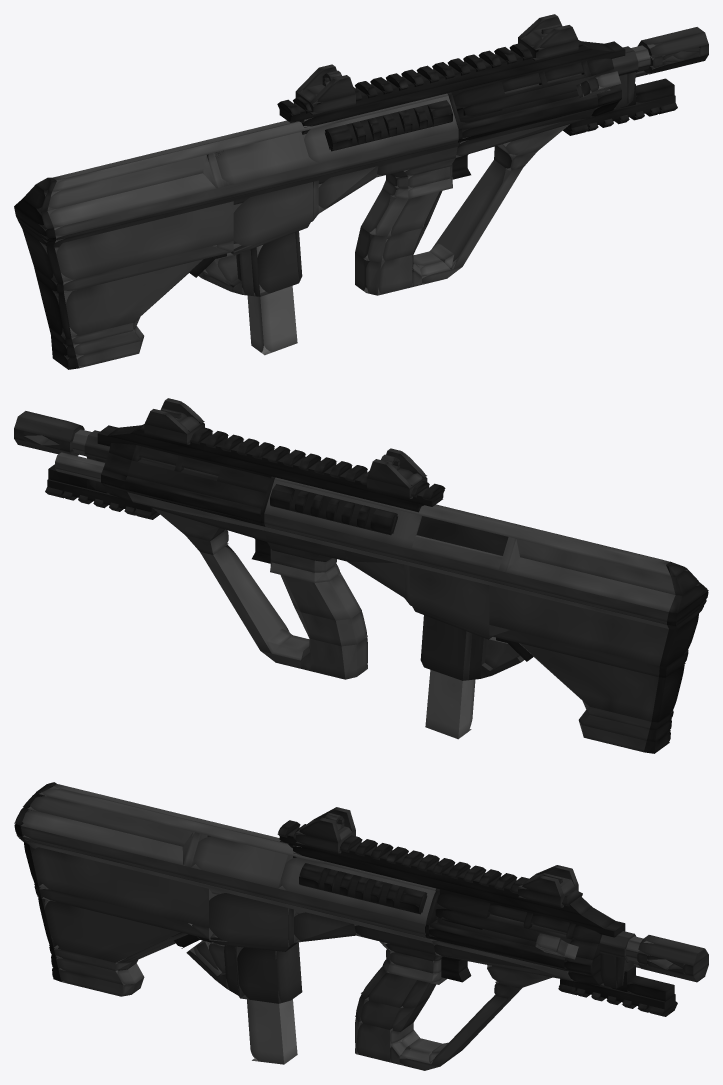
File: aug3para.obj
3 renders of one model, top to bottom at view 1: azimuth 30°, elevation 25°; view 2: azimuth 150°, elevation 25°; view 3: azimuth 330°, elevation 25°, orthographic.
Visible parts, largest first — view 1: gunModel52, gunModel55, gunModel26, gunModel48, gunModel32, gunModel44, gunModel30, gunModel63, gunModel64, gunModel114, ammoModel0, gunModel25 (+38 smaller); view 2: gunModel52, gunModel55, gunModel26, gunModel48, gunModel32, gunModel44, gunModel63, gunModel64, gunModel114, ammoModel0, gunModel25, gunModel24 (+35 smaller); view 3: gunModel52, gunModel55, gunModel26, gunModel48, gunModel32, gunModel30, gunModel63, gunModel114, ammoModel0, gunModel64, gunModel25, gunModel111 (+42 smaller).
Boxes of the visible parts, bbox=[...] form: gunModel52: bbox=[39, 201, 233, 282]; gunModel55: bbox=[52, 259, 202, 337]; gunModel26: bbox=[39, 129, 458, 237]; gunModel48: bbox=[52, 93, 448, 192]; gunModel32: bbox=[233, 182, 312, 252]; gunModel44: bbox=[432, 160, 522, 269]; gunModel30: bbox=[207, 131, 311, 184]; gunModel63: bbox=[36, 173, 216, 227]; gunModel64: bbox=[44, 155, 206, 210]; gunModel114: bbox=[302, 41, 615, 127]; ammoModel0: bbox=[240, 203, 297, 355]; gunModel25: bbox=[301, 96, 458, 165]; gunModel52: bbox=[489, 585, 668, 666]; gunModel55: bbox=[520, 643, 658, 721]; gunModel26: bbox=[264, 513, 668, 621]; gunModel48: bbox=[274, 477, 670, 576]; gunModel32: bbox=[410, 566, 489, 636]; gunModel44: bbox=[200, 545, 288, 653]; gunModel63: bbox=[506, 557, 699, 611]; gunModel64: bbox=[516, 539, 687, 594]; gunModel114: bbox=[107, 425, 420, 511]; ammoModel0: bbox=[425, 669, 475, 739]; gunModel25: bbox=[264, 480, 421, 549]; gunModel24: bbox=[127, 459, 265, 508]; gunModel52: bbox=[31, 847, 217, 927]; gunModel55: bbox=[44, 899, 180, 962]; gunModel26: bbox=[21, 828, 425, 934]; gunModel48: bbox=[39, 784, 435, 890]; gunModel32: bbox=[209, 893, 289, 947]; gunModel30: bbox=[193, 835, 293, 888]; gunModel63: bbox=[21, 795, 184, 865]; gunModel114: bbox=[293, 845, 615, 928]; ammoModel0: bbox=[243, 947, 297, 1064]; gunModel64: bbox=[27, 786, 194, 846]; gunModel25: bbox=[280, 857, 435, 924]; gunModel111: bbox=[279, 827, 592, 915].
Bounding box in the file's own units: 17.35 × 6.4 × 2.21.
